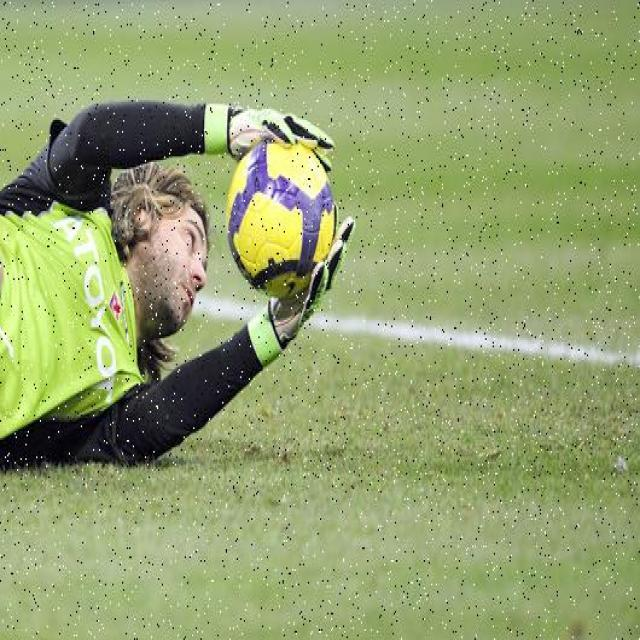fall: (2, 104, 230, 478)
